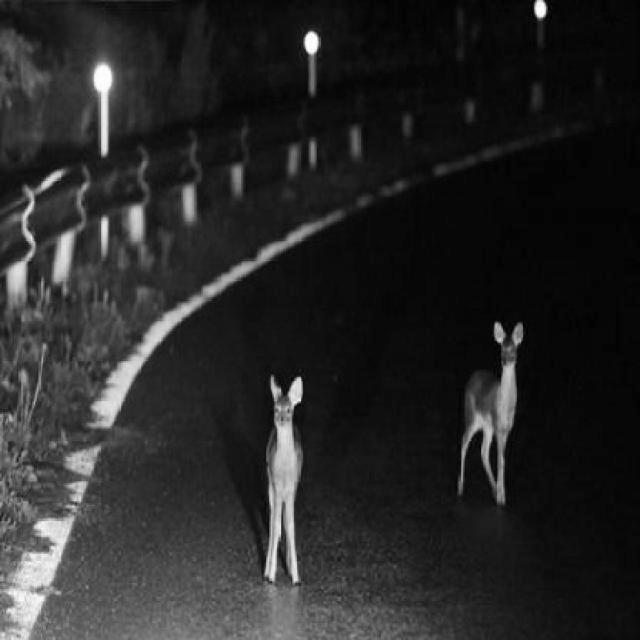Deer: (248, 348, 316, 600), (458, 316, 526, 512)
